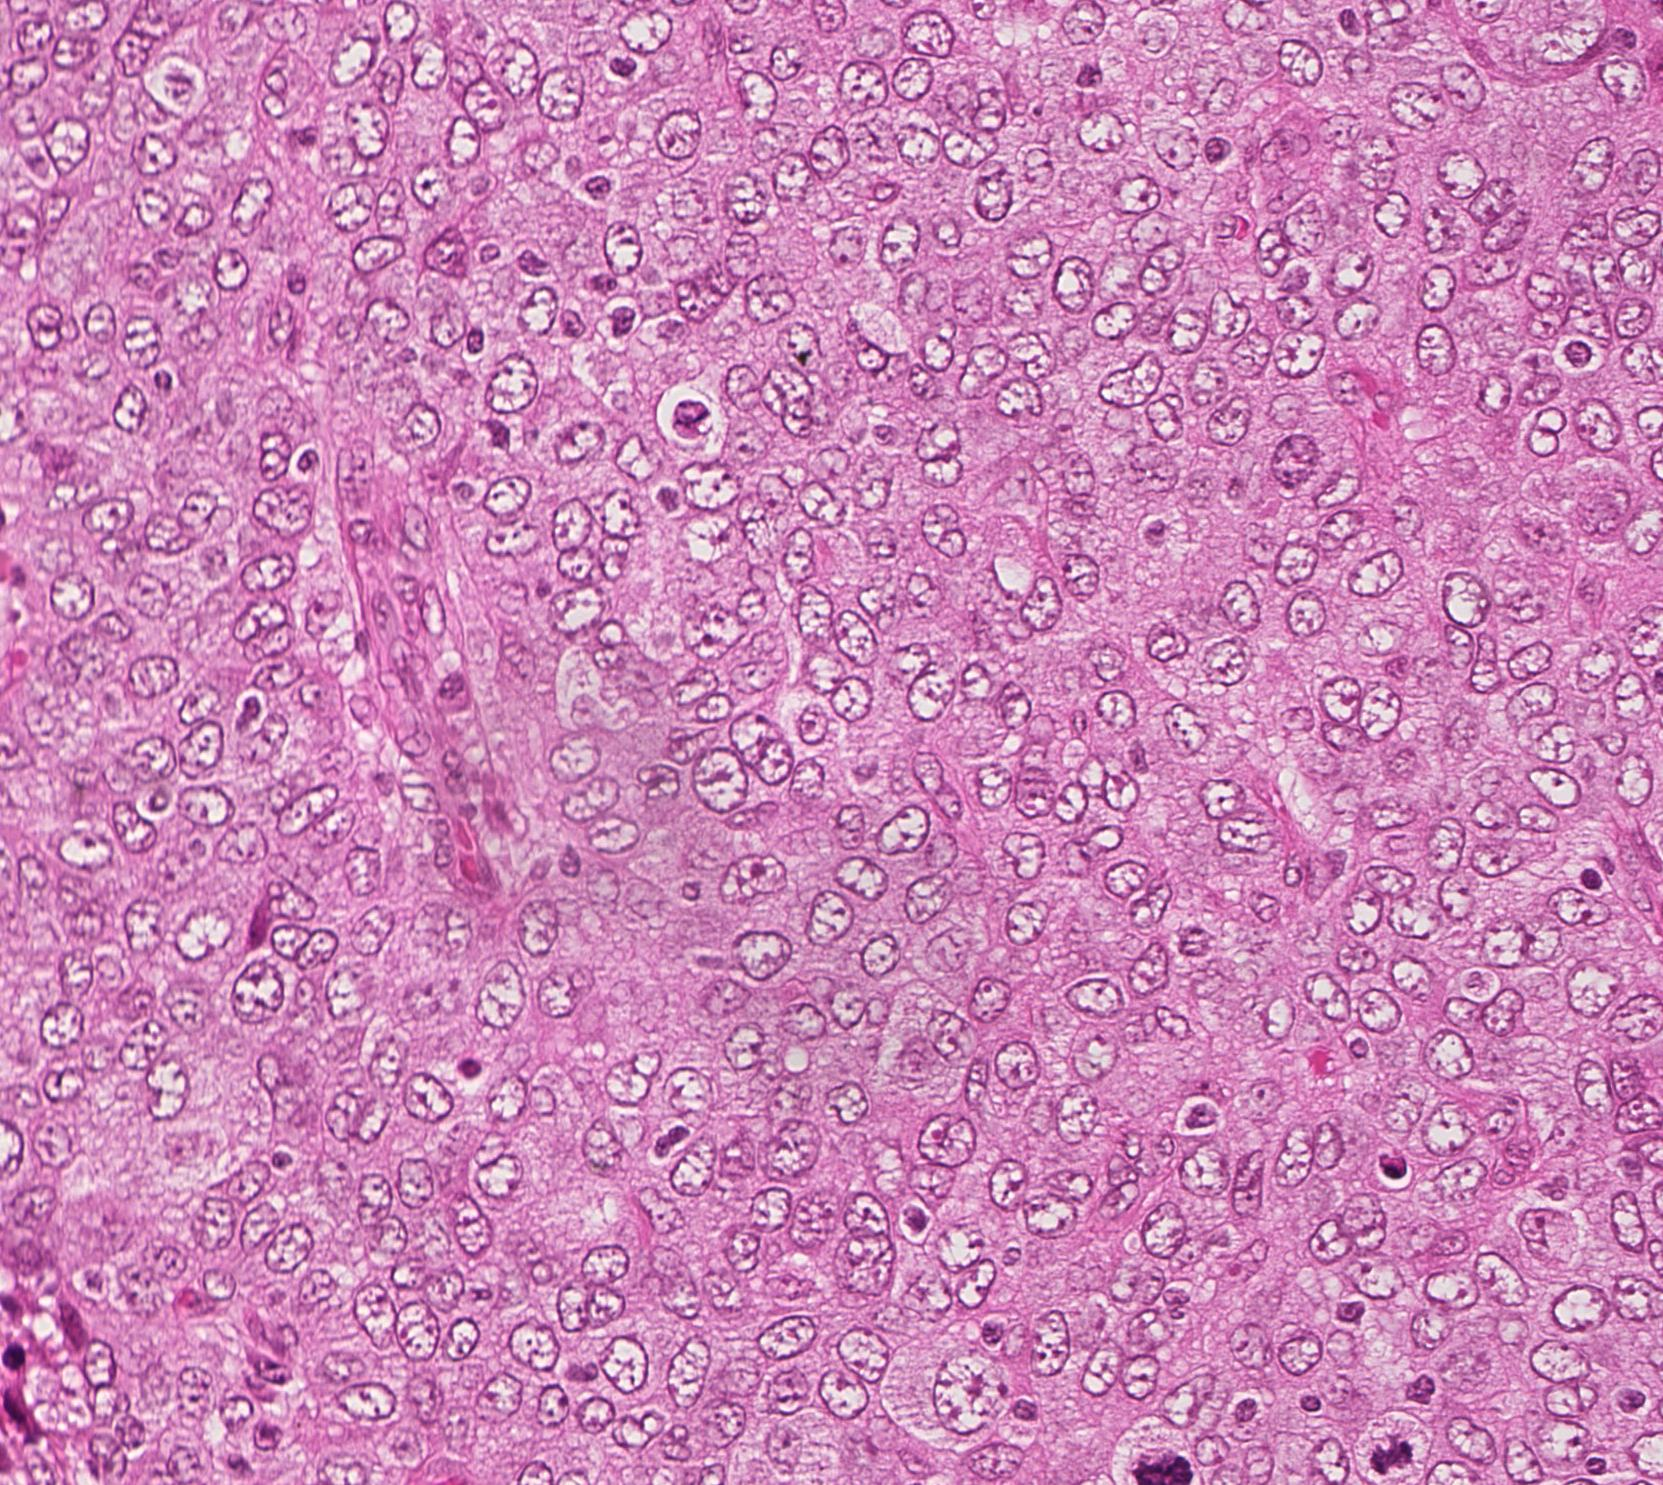mitosis: (1362, 1419, 1422, 1479), (1143, 1435, 1203, 1485)
